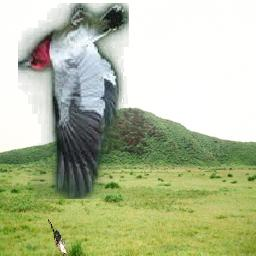Cuckoo: (48, 220, 68, 255)
Woodpecker: (19, 3, 130, 199)
